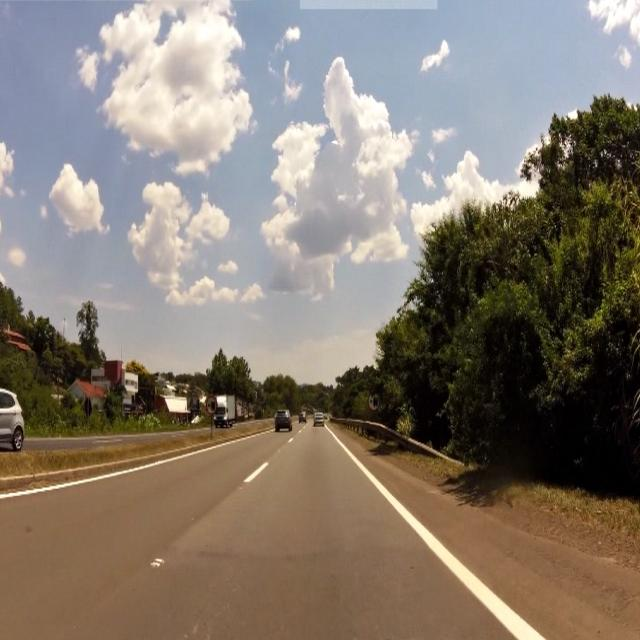R-27: (369, 390, 382, 410), (206, 398, 219, 417)
